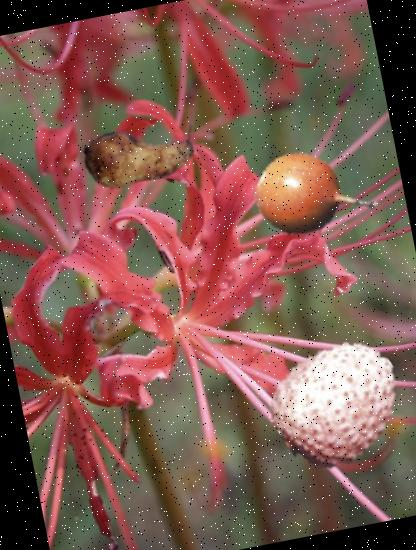Granadilla: (244, 130, 386, 272)
Lychee: (261, 326, 416, 481)
Pear: (74, 90, 204, 220)
